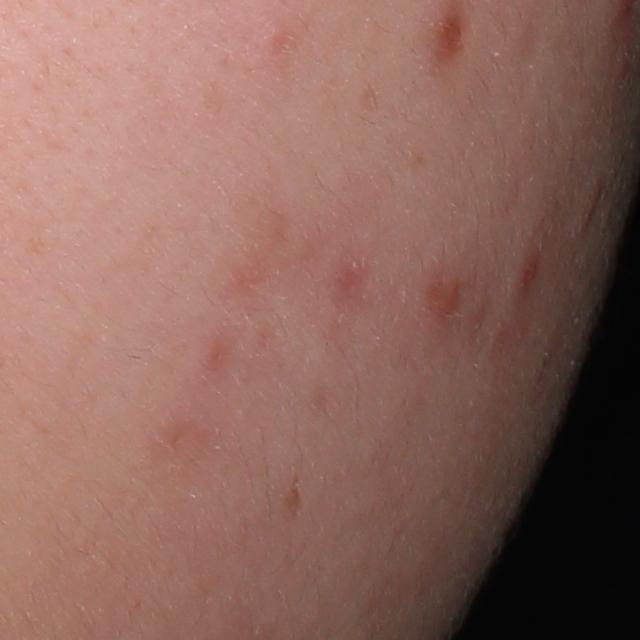papule: (420, 269, 469, 325), (507, 252, 541, 300)
